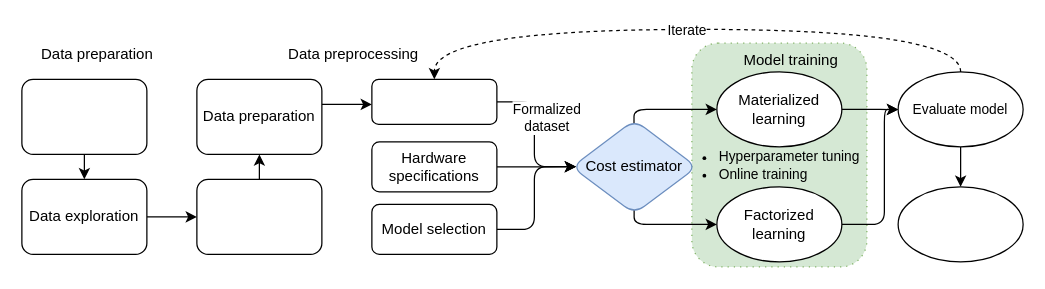
The diagram is 1045 pixels wide and 289 high, and some of its shapes have lost their labels. The centre of each missing label's shape, as x and y in pixels:
Data cleaning: the point at 259,216
Data collection: the point at 84,116
Deploy model: the point at 960,224
Feature engineering: the point at 434,101
